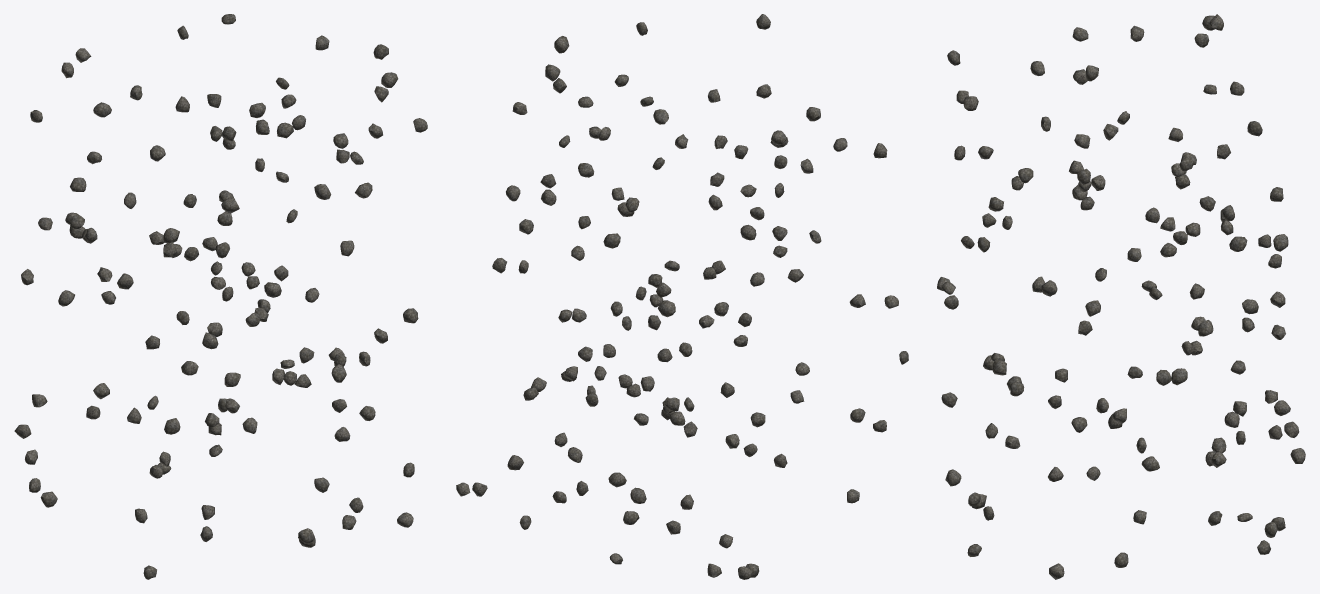
File: FUN-LAS-002_anim.glb
The picture shows the model from 3 angles, left to right: view 1: azimuth 30°, elevation 25°; view 2: azimuth 150°, elevation 25°; view 3: azimuth 270°, elevation 25°; orthographic projection. The views are drawn at different scales.
Bounding box in the file's own units: 0.5115 × 0.7386 × 0.5149.
1 material, 1 textured.
